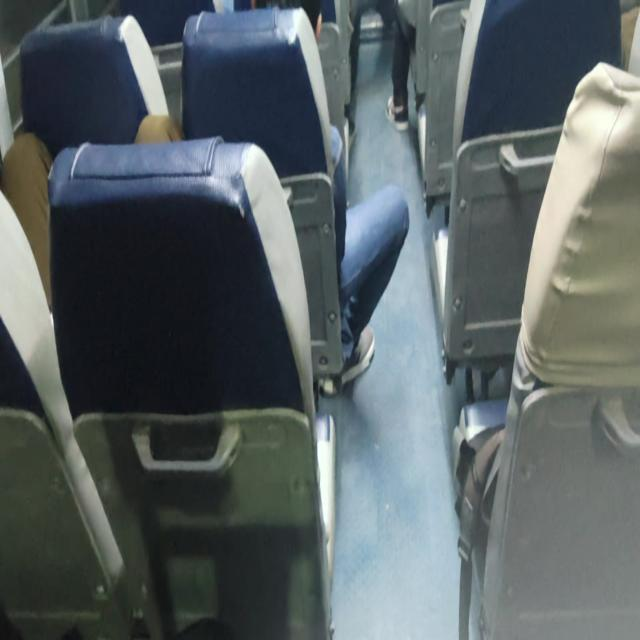person: (134, 2, 410, 394), (293, 1, 410, 390), (344, 0, 414, 134)
